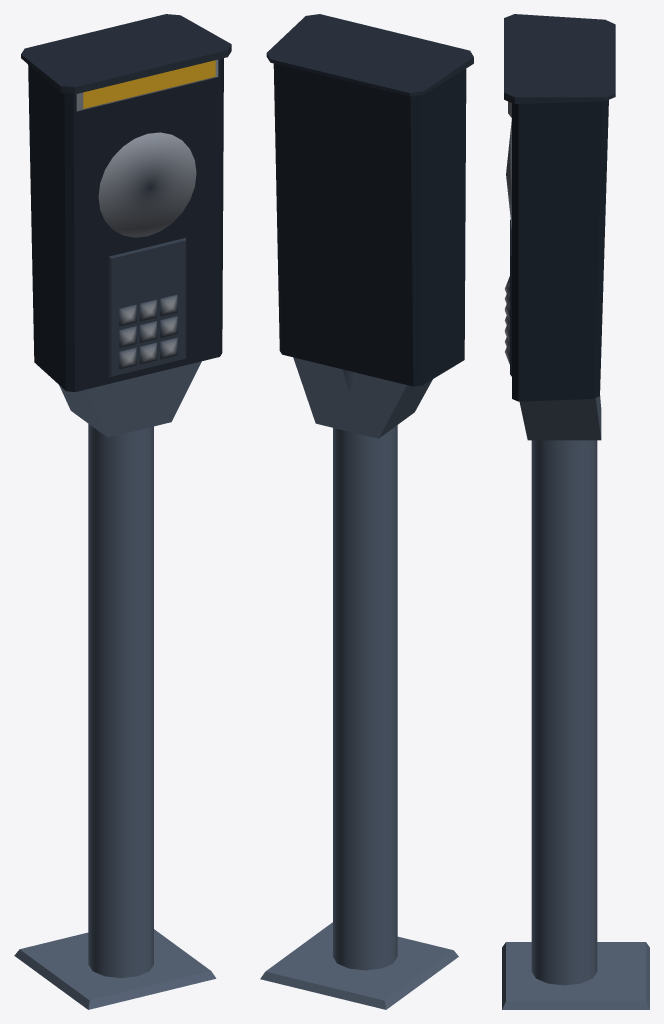
File: yard-intercom-body.glb
3 renders of one model, left to right at view 1: azimuth 30°, elevation 25°; view 2: azimuth 150°, elevation 25°; view 3: azimuth 270°, elevation 25°, orthographic.
Visible parts, largest first — view 1: Yard-intercom-bodyBody; view 2: Yard-intercom-bodyBody; view 3: Yard-intercom-bodyBody.
Part boxes in pixels (x1,y1,x2,y2): Yard-intercom-bodyBody: (14,14,231,1009); Yard-intercom-bodyBody: (260,14,473,1009); Yard-intercom-bodyBody: (502,14,649,1009).
Bounding box in the file's own units: 0.3 × 1.55 × 0.225.
